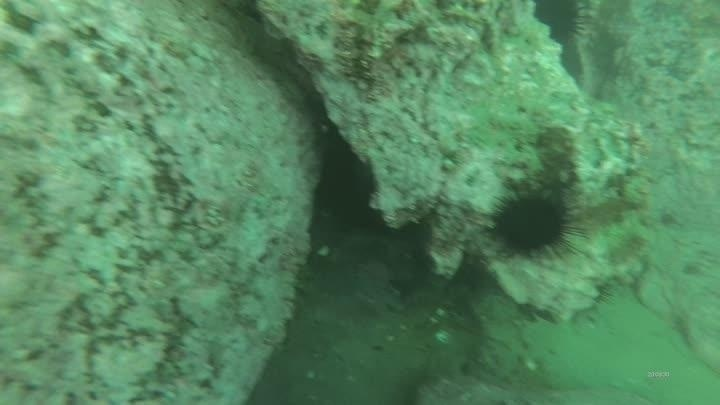echinus: (486, 186, 582, 262), (531, 1, 588, 48)
